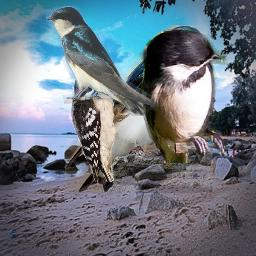Swallow: (65, 25, 213, 193), (139, 25, 232, 163), (46, 6, 159, 116)
Woodpecker: (71, 56, 130, 182)
